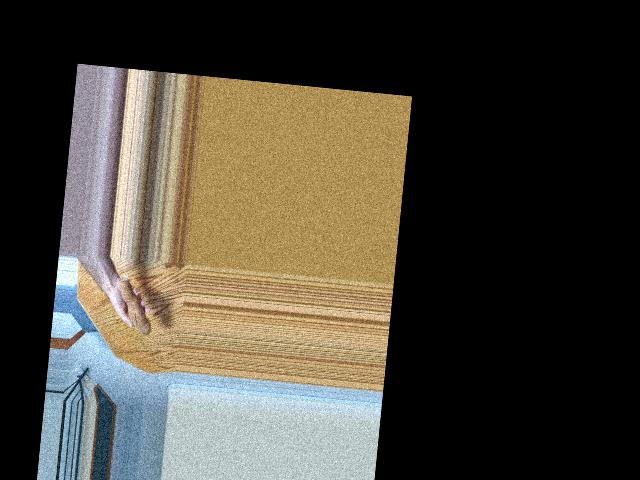sweet_potato: (110, 273, 156, 338)
